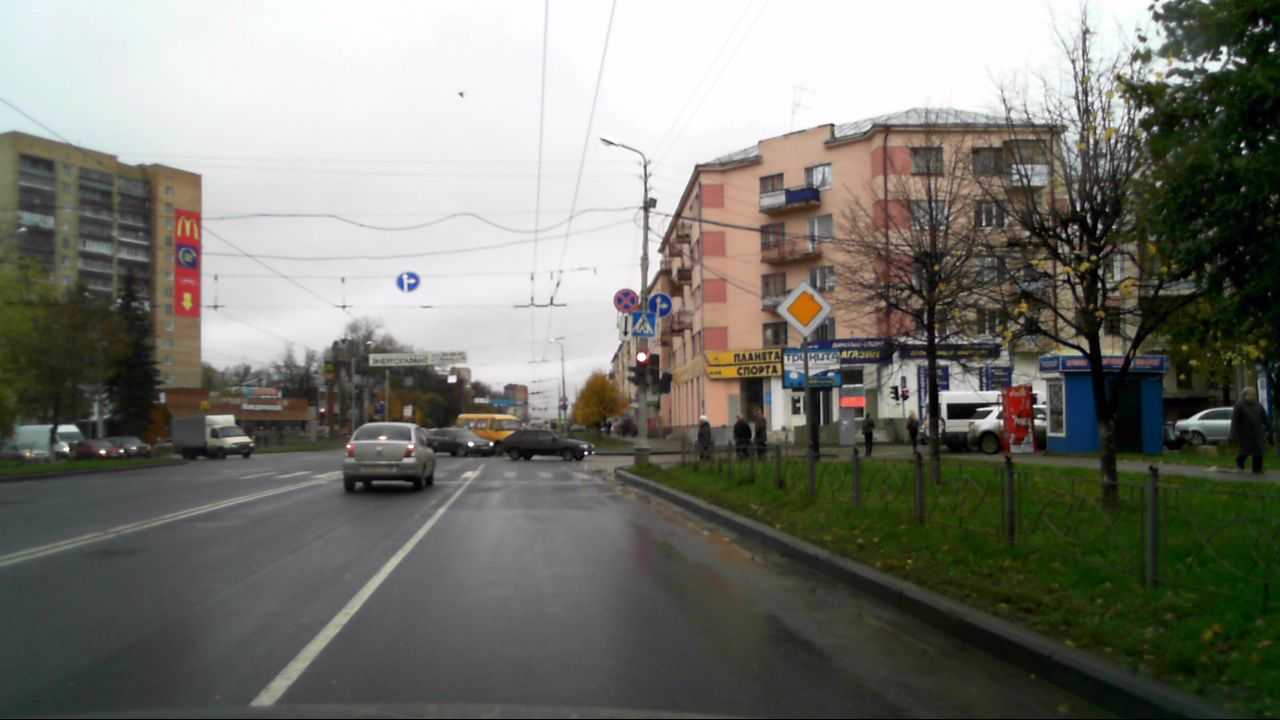No Parking: (612, 288, 638, 313)
